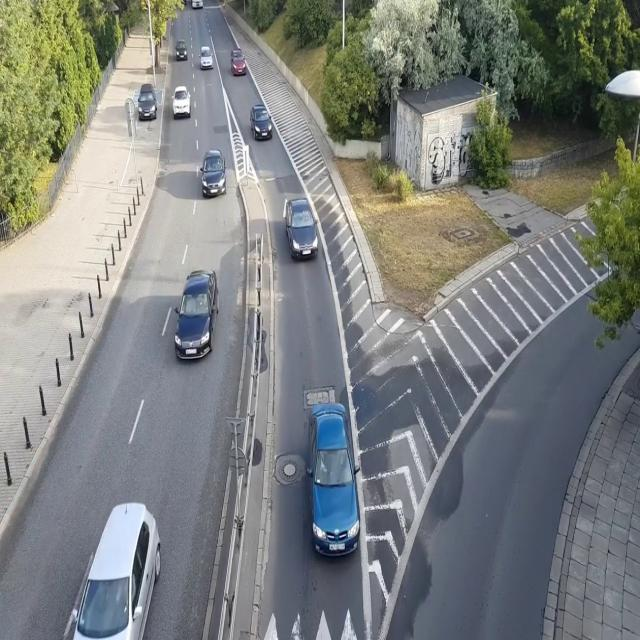car: (68, 502, 163, 640), (305, 403, 360, 556), (174, 270, 220, 360), (285, 192, 320, 264), (200, 148, 227, 198), (249, 104, 273, 140), (171, 84, 192, 120), (138, 82, 157, 119), (230, 48, 247, 76), (199, 46, 214, 71), (174, 38, 188, 62)
truck: (191, 0, 203, 9)
